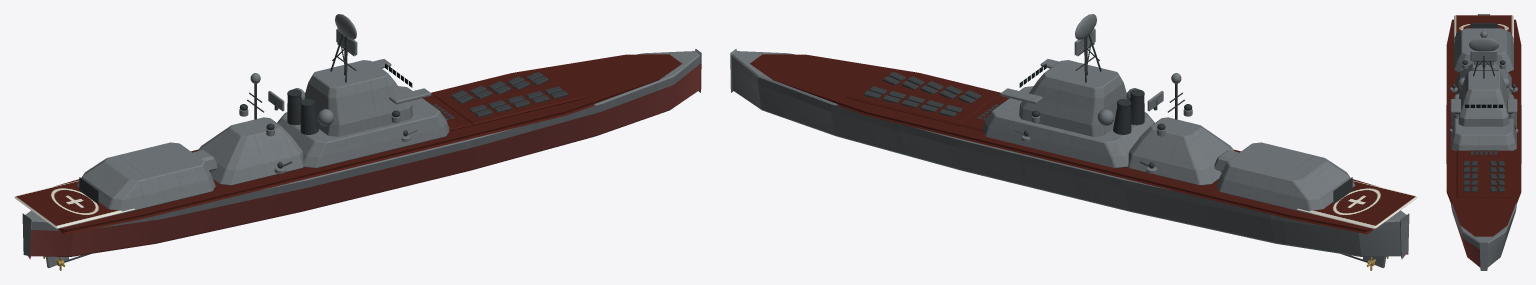
Rendered from battleship-modern.glb.
The picture shows the model from 3 angles, left to right: view 1: azimuth 30°, elevation 25°; view 2: azimuth 150°, elevation 25°; view 3: azimuth 270°, elevation 25°; orthographic projection. The views are drawn at different scales.
Parts seen in each view (by area): view 1: Kirov_Hull, Kirov_Weather_Deck, Kirov_V2_Hangar_Shell, Kirov_V4_Bridge_Tower, Kirov_V4_Command_Deckhouse, Kirov_V4_Aft_Sensor_Deckhouse, Kirov_Granit_Field, Kirov_V4_Helicopter_Deck, Kirov_SAM_Field, Kirov_V4_Funnel_1; view 2: Kirov_Hull, Kirov_Weather_Deck, Kirov_V2_Hangar_Shell, Kirov_V4_Bridge_Tower, Kirov_V4_Command_Deckhouse, Kirov_V4_Aft_Sensor_Deckhouse, Kirov_Granit_Field, Kirov_V4_Helicopter_Deck, Kirov_SAM_Field, Kirov_V4_Funnel_2; view 3: Kirov_Weather_Deck, Kirov_V4_Bridge_Tower, Kirov_V4_Command_Deckhouse, Kirov_Granit_Field, Kirov_Hull, Kirov_V2_Hangar_Shell, Kirov_V4_Helicopter_Deck, Kirov_SAM_Field, Kirov_V4_Aft_Sensor_Deckhouse, Kirov_V4_Top_Pair_Radar, Kirov_Radar_Main_Yaw_Array, Kirov_Hangar_Door (+3 smaller).
Boxes of the visible parts, x1,y1,x2,y2 form: Kirov_Hull: (22,49,701,259); Kirov_Weather_Deck: (54,54,681,234); Kirov_V2_Hangar_Shell: (76,142,215,214); Kirov_V4_Bridge_Tower: (305,60,412,136); Kirov_V4_Command_Deckhouse: (277,86,449,168); Kirov_V4_Aft_Sensor_Deckhouse: (197,117,303,185); Kirov_Granit_Field: (435,68,585,125); Kirov_V4_Helicopter_Deck: (14,180,134,228); Kirov_SAM_Field: (423,96,472,130); Kirov_V4_Funnel_1: (300,105,318,134); Kirov_Hull: (730,49,1409,259); Kirov_Weather_Deck: (750,54,1377,234); Kirov_V2_Hangar_Shell: (1216,142,1355,214); Kirov_V4_Bridge_Tower: (1019,60,1126,136); Kirov_V4_Command_Deckhouse: (982,86,1154,168); Kirov_V4_Aft_Sensor_Deckhouse: (1128,117,1234,185); Kirov_Granit_Field: (846,68,996,125); Kirov_V4_Helicopter_Deck: (1297,180,1417,228); Kirov_SAM_Field: (959,96,1008,130); Kirov_V4_Funnel_2: (1113,105,1131,134); Kirov_Weather_Deck: (1446,19,1521,236); Kirov_V4_Bridge_Tower: (1458,70,1509,126); Kirov_V4_Command_Deckhouse: (1451,93,1516,151); Kirov_Granit_Field: (1456,158,1511,197); Kirov_Hull: (1446,14,1521,270); Kirov_V2_Hangar_Shell: (1454,28,1513,72); Kirov_V4_Helicopter_Deck: (1454,15,1513,42); Kirov_SAM_Field: (1456,150,1511,158); Kirov_V4_Aft_Sensor_Deckhouse: (1456,63,1511,94); Kirov_V4_Top_Pair_Radar: (1469,37,1498,51); Kirov_Radar_Main_Yaw_Array: (1470,51,1497,60); Kirov_Hangar_Door: (1470,23,1497,28).
Size of the model in its own units: 42 by 10.69 by 5.81.
Materials: 9 (4 with a texture image).
